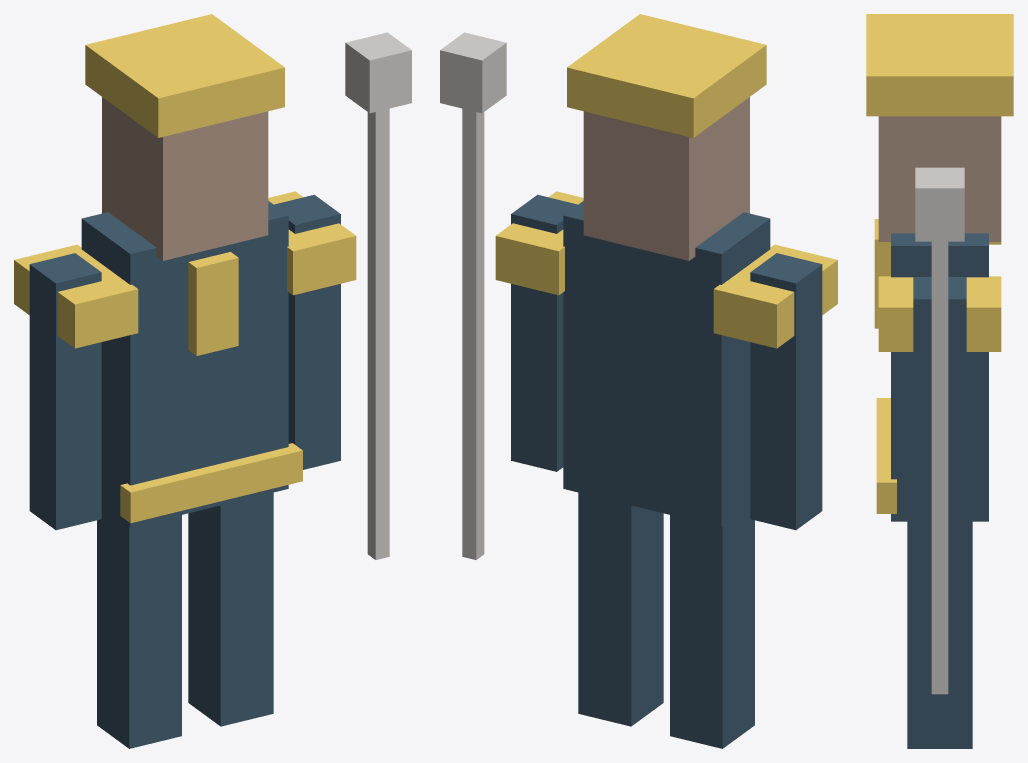
Rendered from 02_isolde_ironwake_custodian_from_command.glb.
3 renders of one model, left to right at view 1: azimuth 30°, elevation 25°; view 2: azimuth 150°, elevation 25°; view 3: azimuth 270°, elevation 25°, orthographic.
Visible parts, largest first — view 1: Isolde Ironwake, Custodian from Command; view 2: Isolde Ironwake, Custodian from Command; view 3: Isolde Ironwake, Custodian from Command.
Part boxes in pixels (<box>): Isolde Ironwake, Custodian from Command: <box>14,14,411,748</box>; Isolde Ironwake, Custodian from Command: <box>440,14,837,748</box>; Isolde Ironwake, Custodian from Command: <box>866,14,1013,748</box>.
Size of the model in its own units: 0.9554 by 1.7 by 0.3389.
